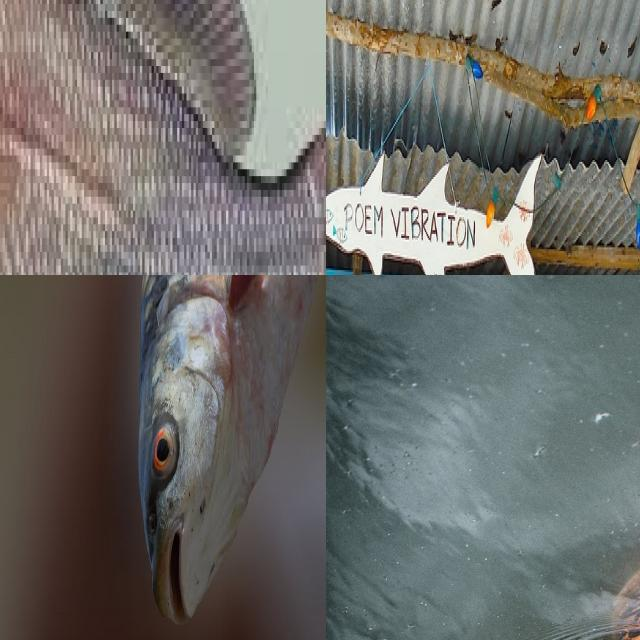fish: (0, 275, 326, 640), (0, 0, 326, 275), (326, 133, 564, 275)
